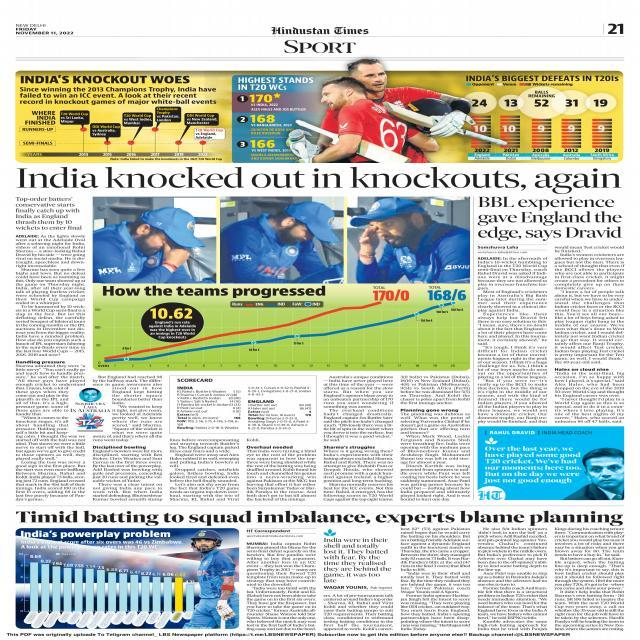Article: (11, 194, 473, 503), (10, 507, 628, 633), (474, 194, 628, 426)
Body: (554, 245, 626, 424), (476, 256, 549, 424), (12, 234, 88, 358), (322, 374, 394, 502), (399, 374, 471, 502), (400, 527, 473, 632), (478, 528, 547, 631), (554, 528, 622, 632), (245, 542, 318, 632), (92, 434, 164, 502), (15, 435, 85, 502), (168, 438, 241, 501), (246, 444, 317, 502), (322, 592, 394, 631), (15, 386, 70, 434), (110, 386, 163, 434), (14, 360, 86, 386), (91, 374, 164, 386)
Date: (15, 26, 77, 35)
Heading: (14, 165, 622, 194), (13, 509, 625, 527), (476, 196, 626, 240)
Highlights: (170, 376, 318, 434), (232, 75, 316, 161), (18, 72, 219, 106), (483, 446, 581, 486), (322, 536, 393, 584), (14, 196, 84, 231), (466, 73, 620, 82)
Image: (95, 284, 471, 370), (17, 528, 240, 630), (318, 59, 458, 163), (18, 106, 228, 162), (462, 87, 620, 161), (219, 196, 345, 284), (94, 196, 218, 284), (348, 196, 471, 283), (584, 446, 624, 501), (78, 388, 102, 401)
Name: (282, 39, 356, 54), (270, 25, 370, 35)
